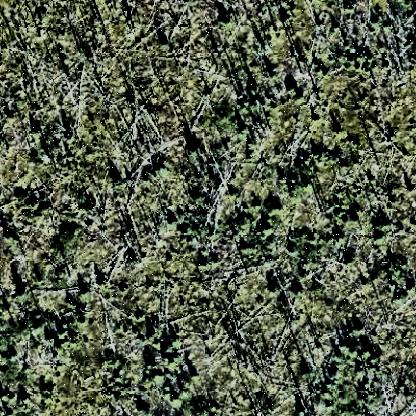tree-top: (310, 147, 334, 167), (184, 142, 207, 162), (257, 222, 277, 244), (8, 279, 26, 301), (214, 9, 234, 27), (169, 333, 187, 353), (44, 332, 62, 351), (334, 341, 354, 358), (178, 225, 196, 243), (358, 345, 376, 363), (1, 230, 23, 244), (269, 202, 286, 220), (149, 370, 165, 384), (237, 242, 253, 256), (77, 286, 91, 300), (291, 284, 305, 298), (285, 242, 299, 256), (284, 83, 298, 97), (111, 173, 125, 187), (394, 290, 408, 304), (351, 322, 365, 336), (298, 366, 312, 380), (19, 394, 32, 408), (95, 277, 107, 291), (329, 21, 341, 33)
